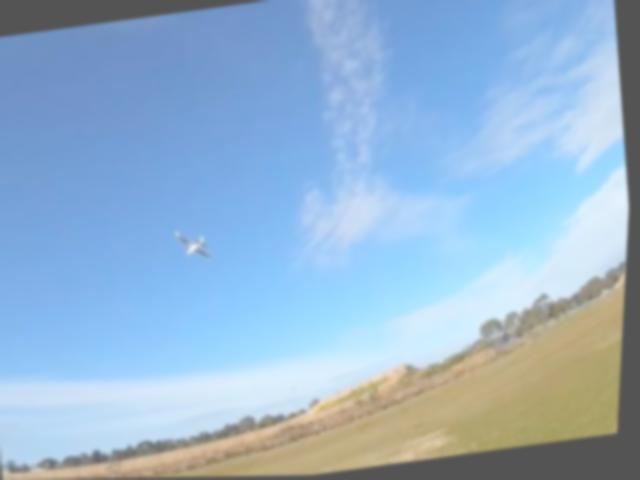uav: (168, 216, 225, 275)
